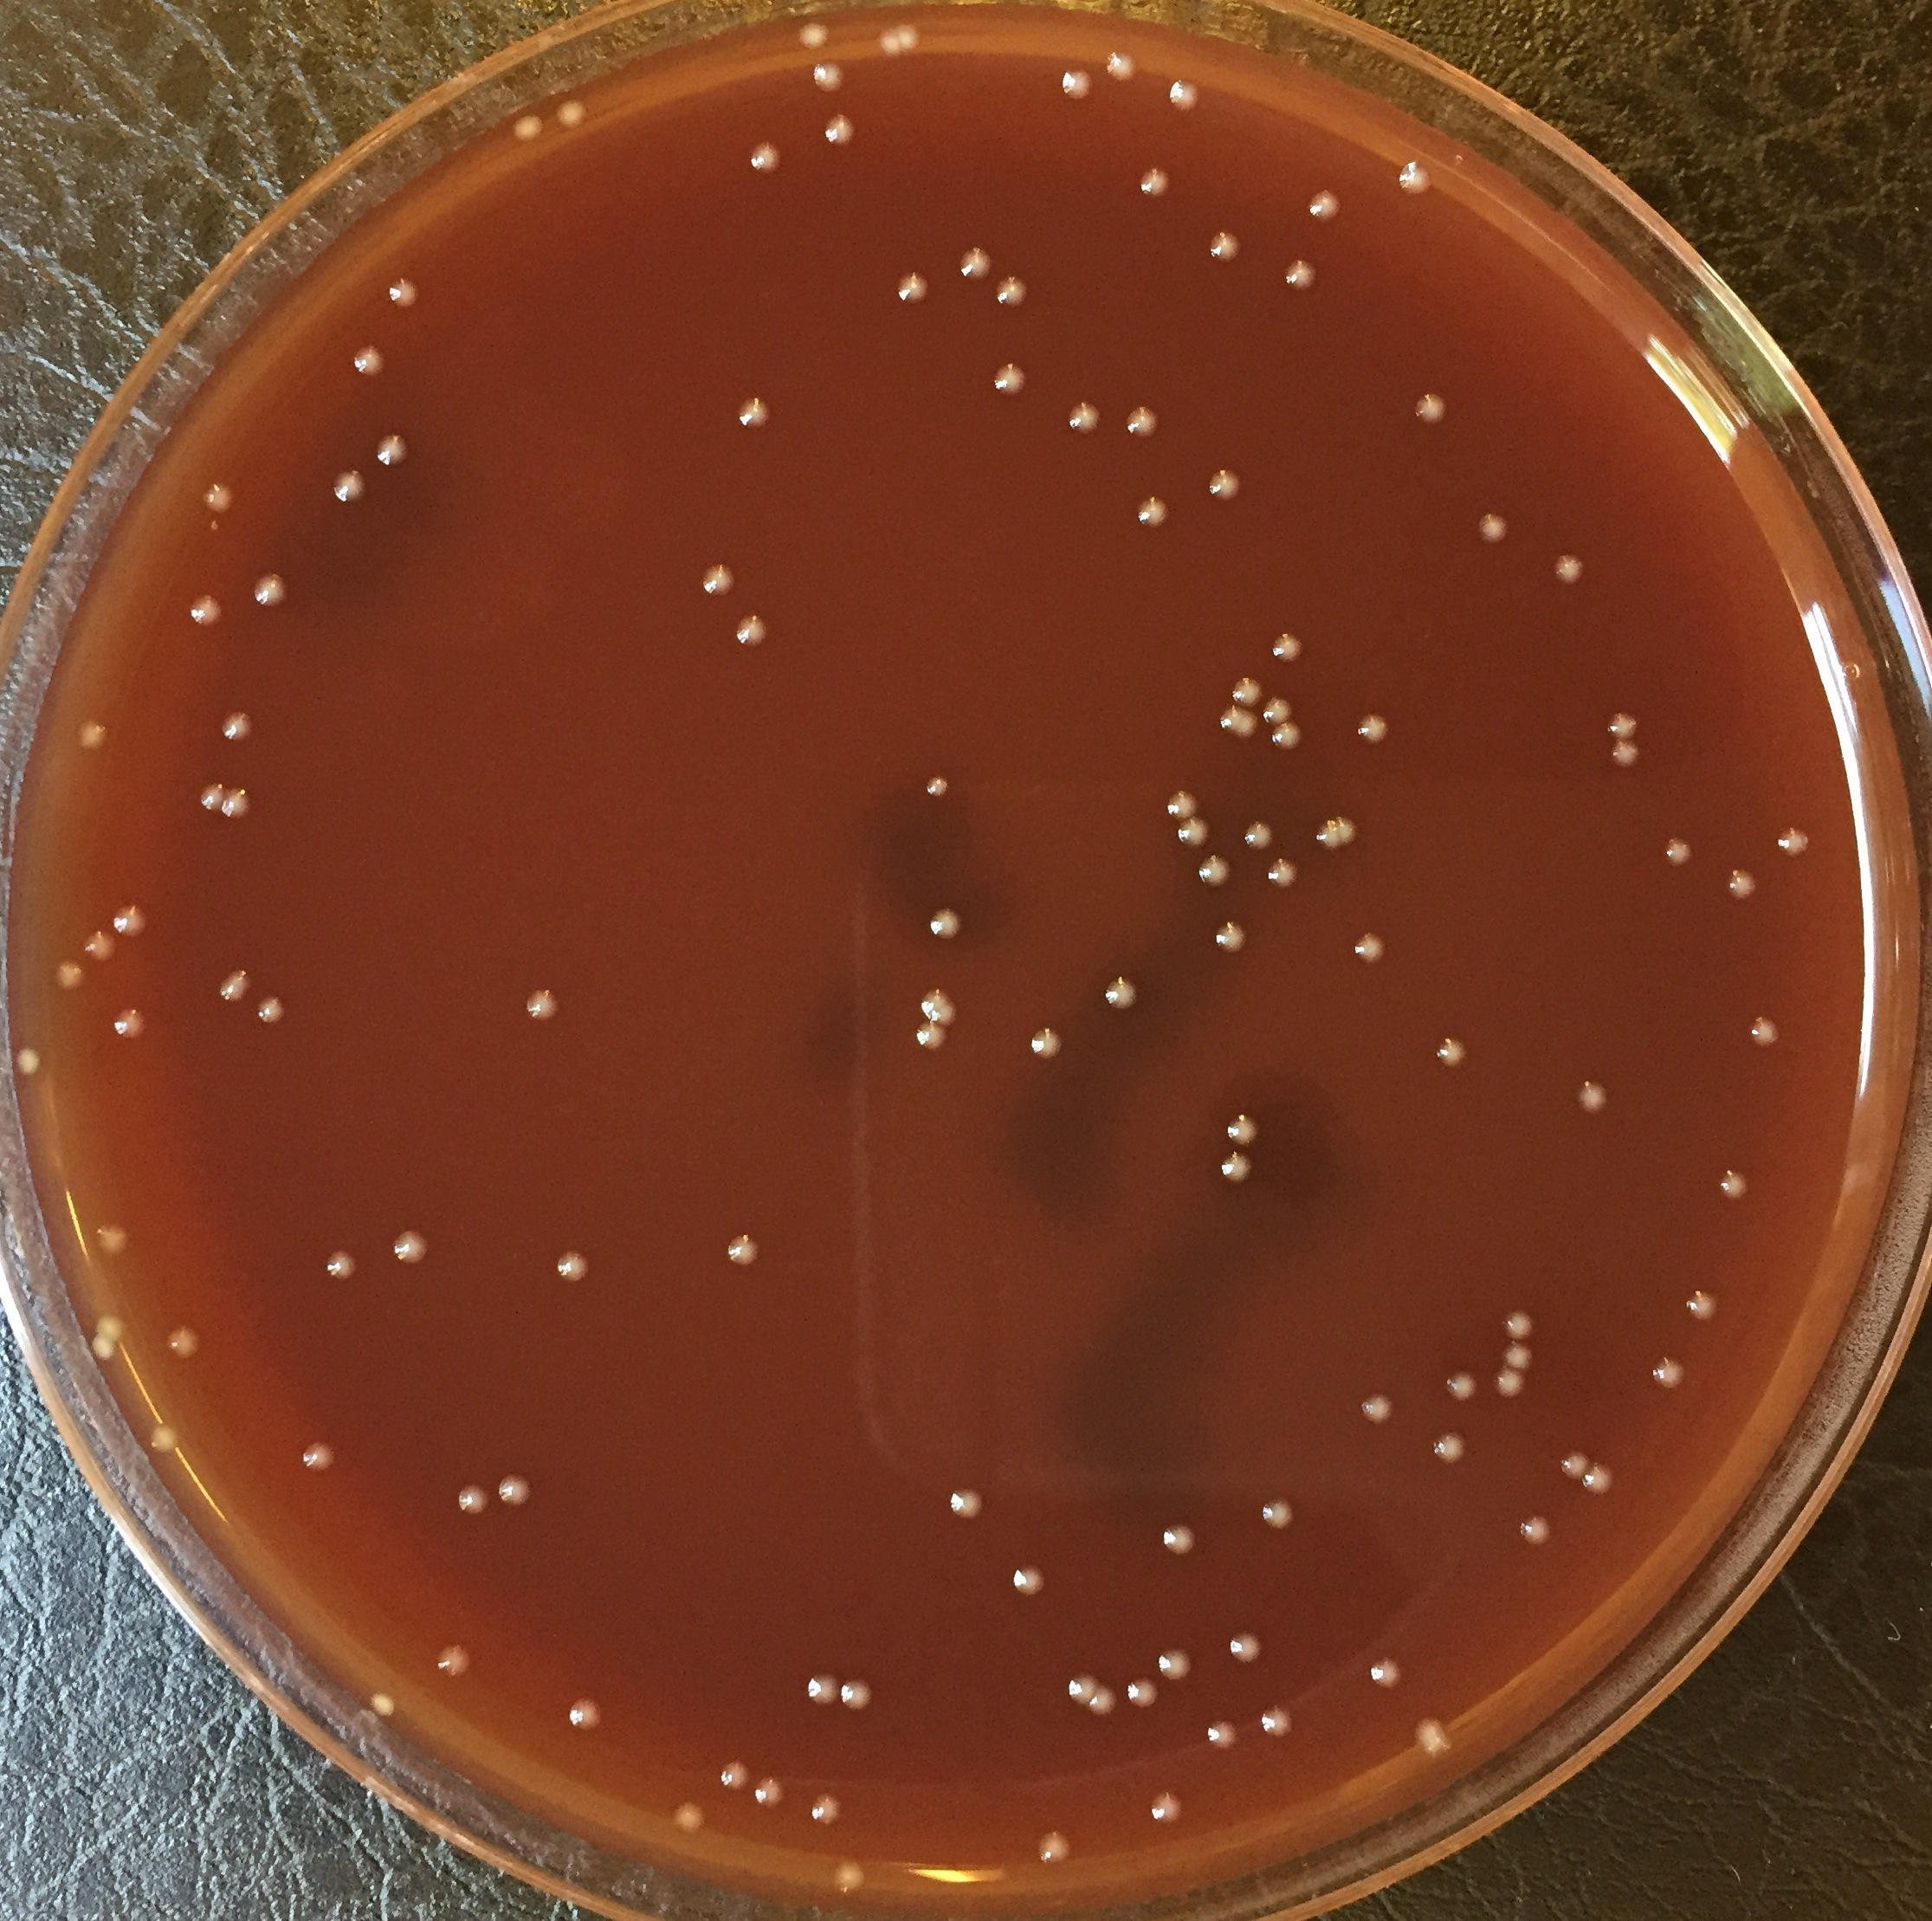sp06: (1409, 1710, 1460, 1764), (1214, 1150, 1260, 1203), (1050, 60, 1094, 111), (1394, 158, 1439, 199), (91, 1221, 134, 1263), (1200, 1715, 1244, 1756), (1304, 186, 1348, 225), (1408, 391, 1453, 427), (1211, 227, 1244, 276), (1174, 811, 1214, 851), (111, 901, 151, 941), (1161, 779, 1200, 822), (669, 1801, 711, 1840), (1101, 975, 1140, 1017), (1063, 398, 1105, 436), (1123, 405, 1165, 443), (299, 1439, 345, 1474), (433, 1643, 473, 1682), (1035, 1830, 1075, 1868), (1226, 1629, 1265, 1669), (1226, 674, 1267, 712), (1103, 46, 1144, 84), (811, 56, 850, 97), (829, 1858, 871, 1895), (1223, 1108, 1260, 1150), (991, 273, 1033, 310), (1154, 1645, 1193, 1684), (746, 139, 785, 178), (947, 1483, 987, 1520), (1432, 1428, 1469, 1469), (216, 785, 253, 825), (732, 614, 772, 651), (1351, 712, 1394, 748), (391, 1230, 429, 1267), (165, 1325, 204, 1362), (1008, 1562, 1047, 1599), (1197, 853, 1235, 890), (955, 245, 994, 281), (992, 362, 1031, 399), (1165, 76, 1204, 113), (331, 466, 370, 503), (700, 561, 737, 600), (553, 1249, 593, 1284), (494, 1472, 535, 1508), (1026, 1027, 1066, 1063), (9, 1041, 44, 1082), (841, 1673, 875, 1715), (1135, 493, 1172, 530), (1147, 1791, 1186, 1826), (1160, 1522, 1198, 1557), (1431, 1036, 1469, 1071), (1772, 825, 1811, 860), (1204, 468, 1242, 503), (894, 271, 933, 306), (373, 431, 408, 470), (72, 719, 111, 755), (51, 957, 90, 992), (216, 969, 255, 1004), (1263, 857, 1304, 890), (794, 21, 834, 55), (111, 1006, 151, 1040), (1545, 552, 1587, 584), (324, 1245, 359, 1282), (1573, 1078, 1610, 1114), (1281, 257, 1318, 292), (507, 111, 544, 146), (523, 987, 558, 1024), (725, 1231, 762, 1267), (565, 1698, 604, 1731), (1652, 1353, 1686, 1391), (1348, 931, 1387, 964), (454, 1483, 494, 1515), (808, 1671, 843, 1706), (1063, 1673, 1098, 1708), (1473, 510, 1508, 545), (822, 113, 857, 148), (384, 276, 419, 311), (187, 591, 222, 626), (81, 931, 116, 966), (146, 1423, 183, 1457), (1686, 1286, 1723, 1319), (1260, 693, 1297, 727), (553, 97, 589, 130), (252, 572, 289, 605), (252, 992, 289, 1026), (1441, 1370, 1480, 1402), (1603, 709, 1642, 741), (366, 1685, 399, 1720), (808, 1791, 843, 1824), (1578, 1464, 1614, 1497), (926, 909, 959, 945), (911, 1020, 947, 1054), (1214, 918, 1248, 953), (1723, 866, 1756, 901), (350, 345, 384, 380), (197, 482, 232, 515), (737, 392, 771, 427), (1365, 1655, 1402, 1687), (1332, 811, 1364, 848), (1267, 725, 1306, 755), (751, 1775, 785, 1808), (1087, 1684, 1121, 1717), (1492, 1365, 1526, 1399), (1135, 164, 1168, 197), (1124, 1676, 1160, 1708), (1555, 1450, 1591, 1481), (1716, 1170, 1751, 1202), (1240, 820, 1276, 851), (894, 18, 922, 56), (1260, 1495, 1293, 1527), (917, 983, 948, 1017), (1260, 1703, 1290, 1738), (1519, 1515, 1550, 1546), (1503, 1311, 1534, 1342), (222, 709, 253, 741), (1269, 633, 1302, 663), (90, 1314, 125, 1342), (716, 1761, 751, 1789), (1606, 739, 1642, 767), (195, 778, 223, 813), (1360, 1393, 1392, 1423), (1751, 1017, 1781, 1048), (927, 999, 959, 1029), (1214, 702, 1242, 735), (1661, 837, 1694, 866), (1313, 820, 1343, 850), (88, 1332, 120, 1360), (1501, 1342, 1533, 1370), (922, 776, 954, 802), (875, 28, 899, 56)
